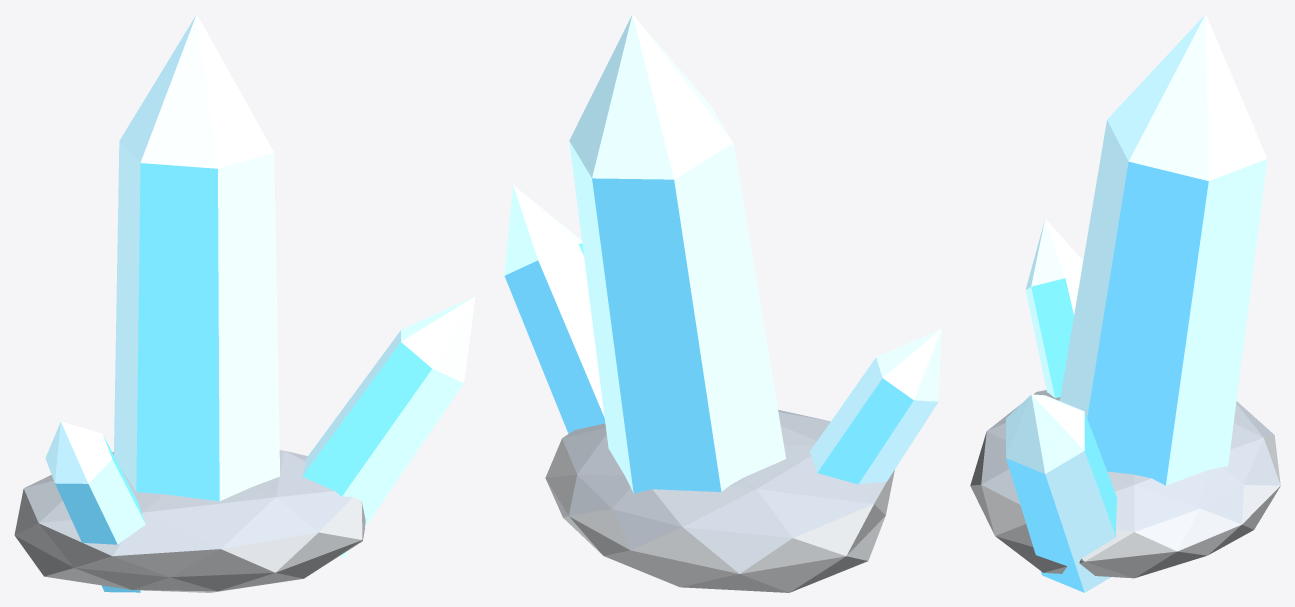
File: cristal-azul.glb
3 renders of one model, left to right at view 1: azimuth 30°, elevation 25°; view 2: azimuth 150°, elevation 25°; view 3: azimuth 270°, elevation 25°, orthographic. The views are drawn at different scales.
Visible parts, largest first — view 1: cristal-azul; view 2: cristal-azul; view 3: cristal-azul.
Part boxes in pixels (bbox=[...]): cristal-azul: bbox=[14, 14, 475, 592]; cristal-azul: bbox=[504, 14, 941, 592]; cristal-azul: bbox=[970, 14, 1280, 592].
Bounding box in the file's own units: 0.1195 × 0.1455 × 0.0751.
